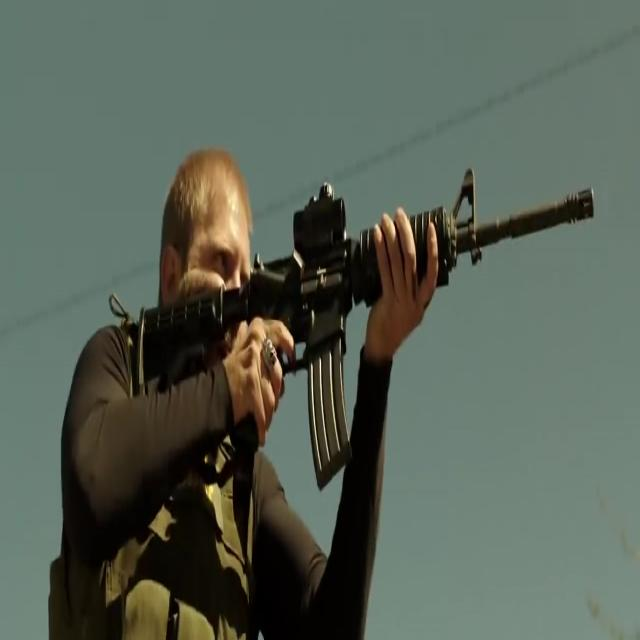Weapon: (138, 219, 586, 482)
